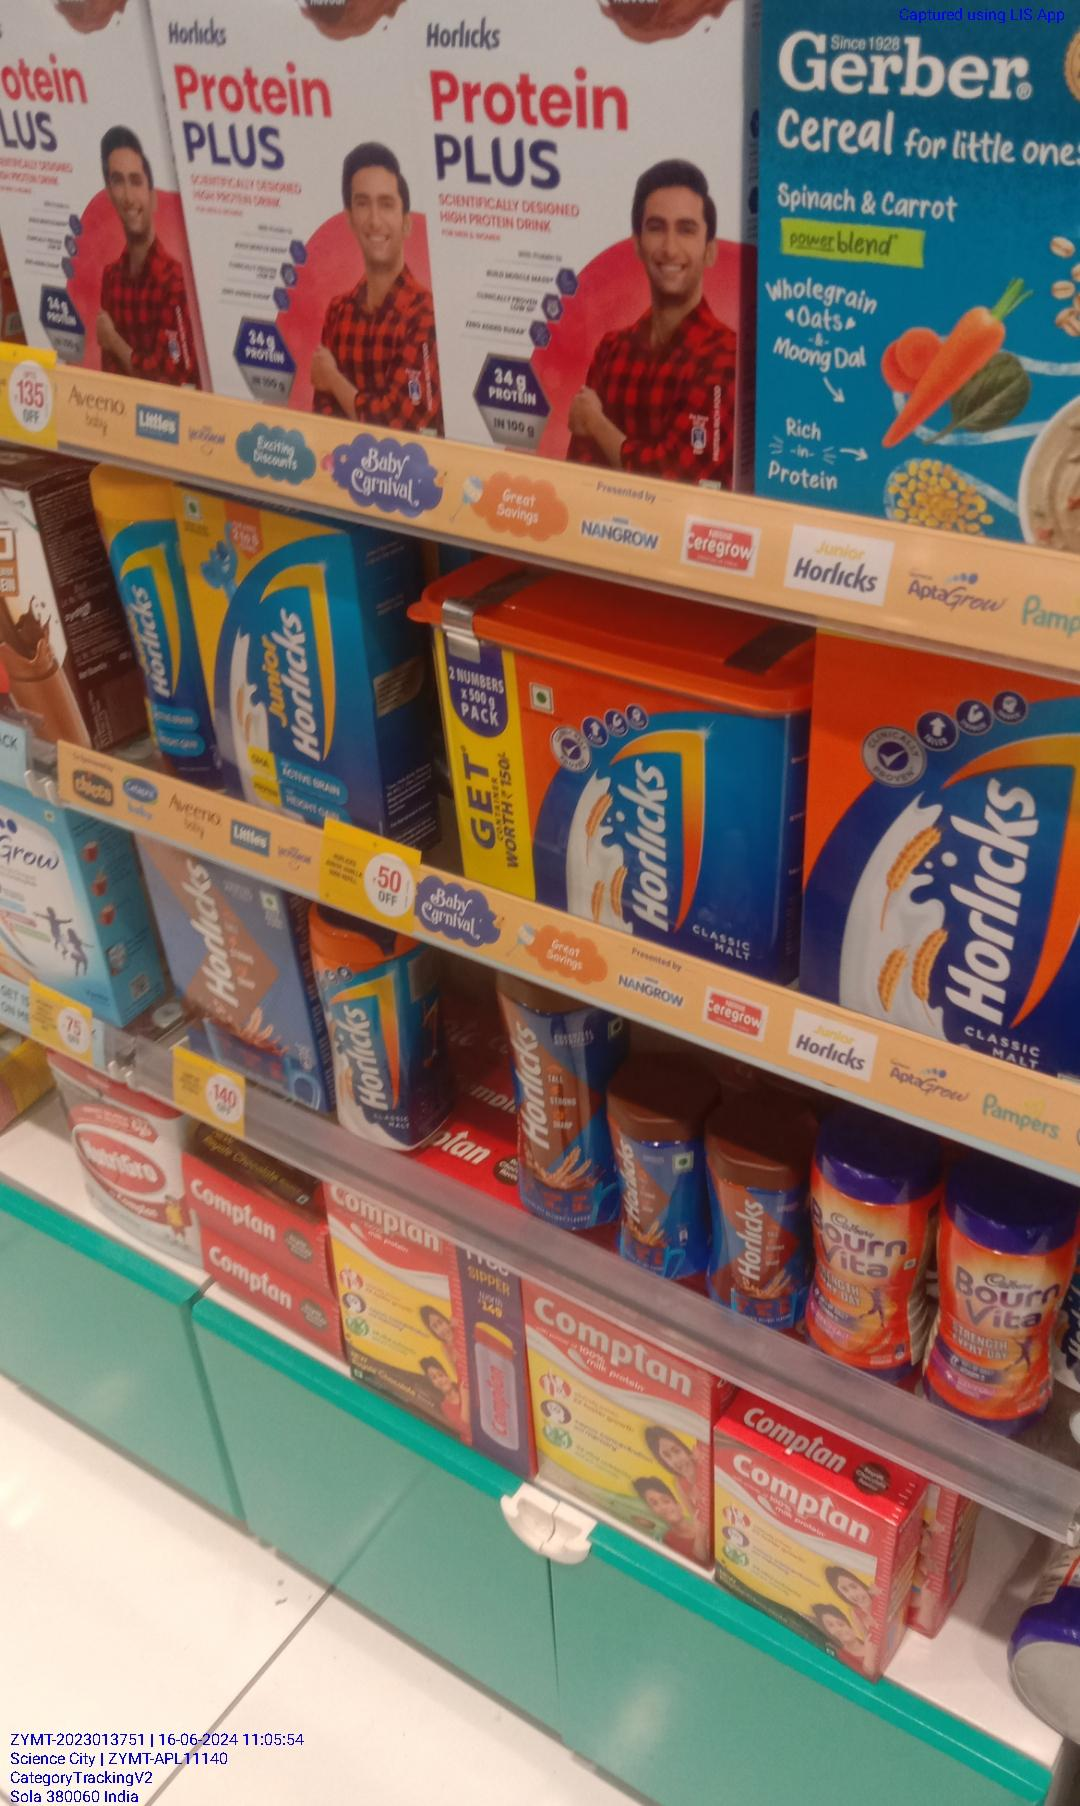HORLICK_CLASSIC_MALT_500_G_JAR: (324, 933, 409, 1140)
HORLICK_MALT_1_KG_CONTAINER: (432, 654, 801, 932)
